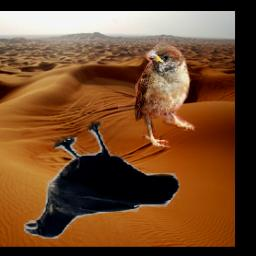Crow: (24, 122, 181, 239)
Sparrow: (117, 42, 195, 147)
